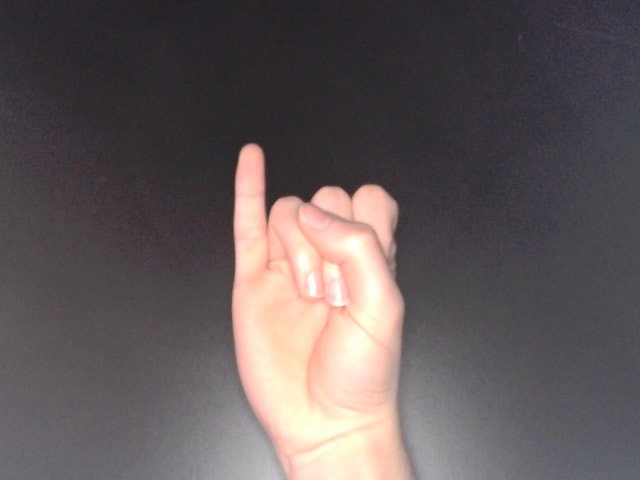i: (224, 139, 412, 465)
